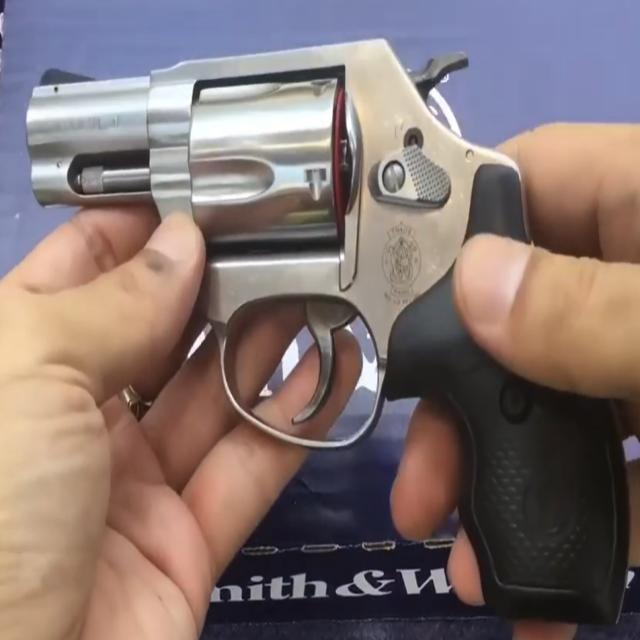revolver: (9, 20, 636, 631)
